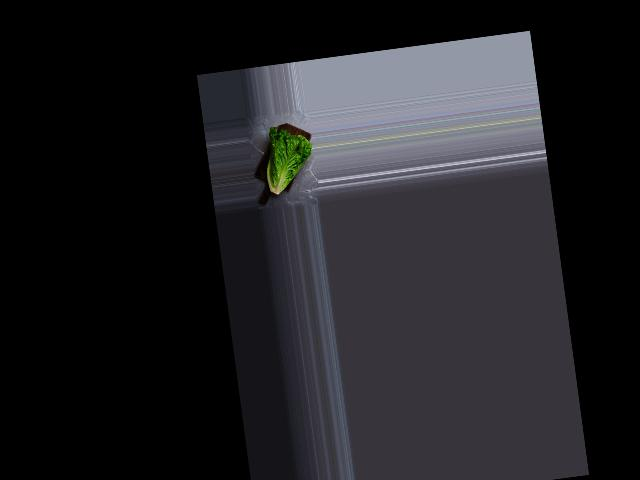lettuce: (253, 122, 317, 199)
